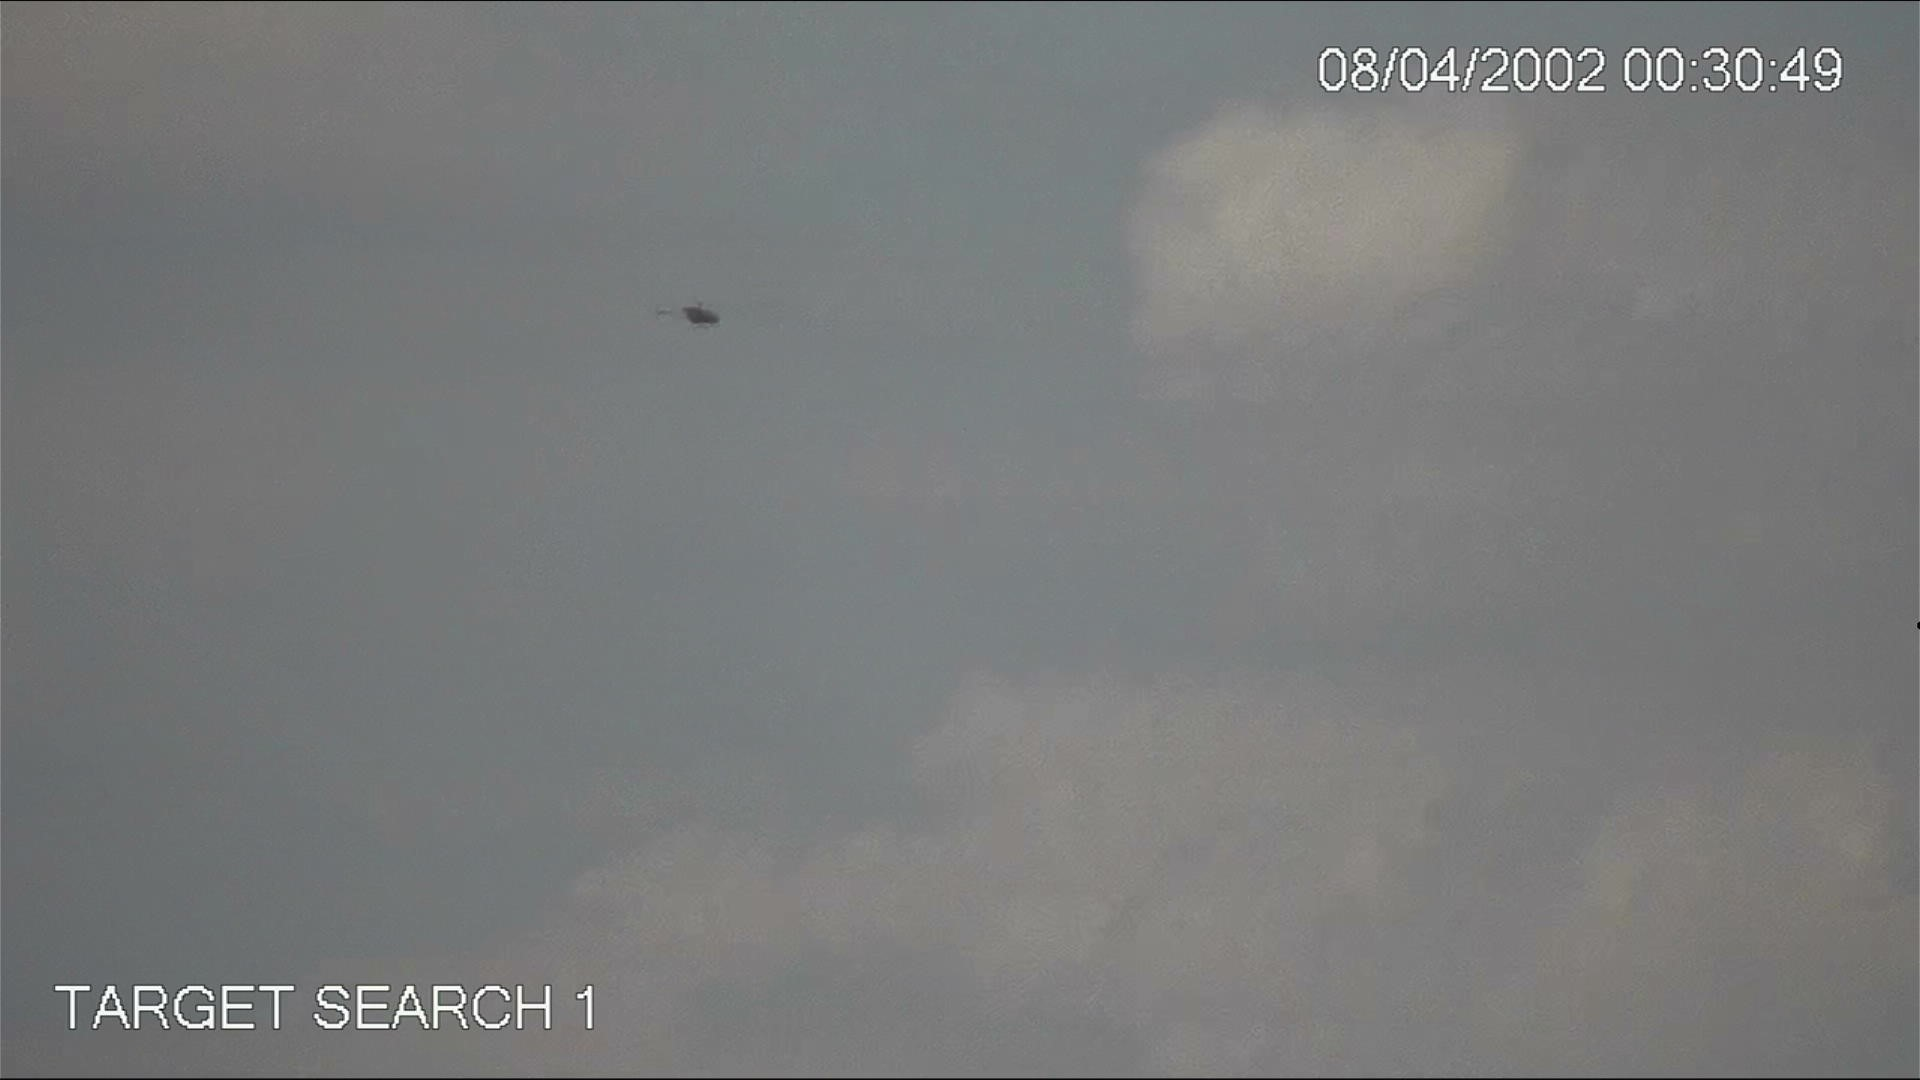SU_30: (651, 298, 729, 335)
